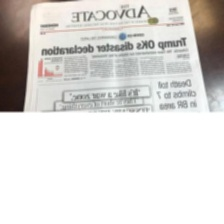news_paper: (22, 0, 210, 112)
